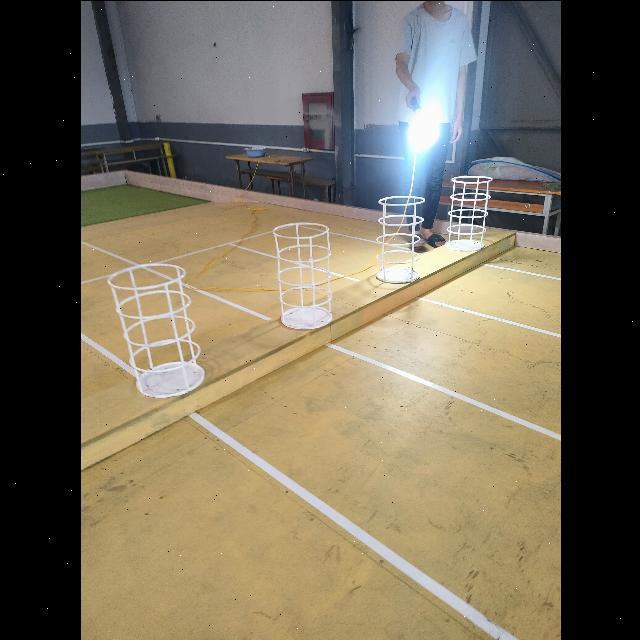S: (104, 260, 204, 398), (272, 222, 334, 328), (374, 194, 424, 284), (443, 173, 491, 251)
